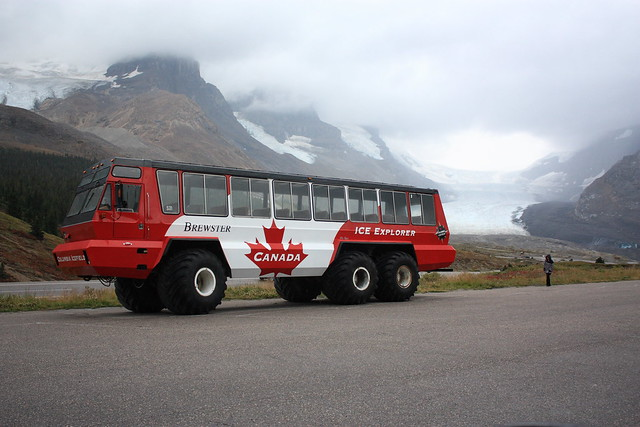bus: (51, 156, 456, 316)
